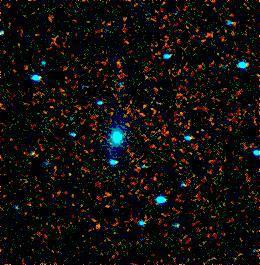star: (83, 212, 113, 242)
